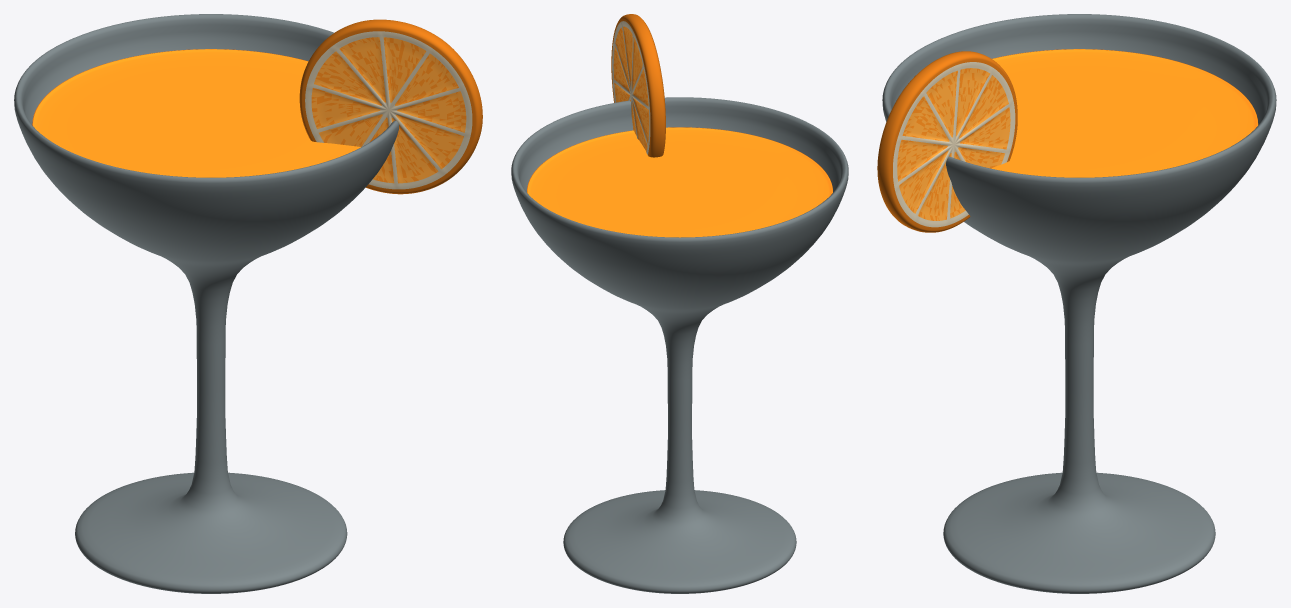
Rendered from cocktail-agrumes.glb.
3 renders of one model, left to right at view 1: azimuth 30°, elevation 25°; view 2: azimuth 150°, elevation 25°; view 3: azimuth 270°, elevation 25°, orthographic. The views are drawn at different scales.
Visible parts, largest first — view 1: verre, cocktail_agrumes, orange_pulpe, orange_albedo, orange_pulpe_vive, orange_zeste; view 2: verre, cocktail_agrumes, orange_zeste, orange_pulpe, orange_pulpe_vive, orange_albedo; view 3: verre, cocktail_agrumes, orange_pulpe, orange_zeste, orange_albedo, orange_pulpe_vive.
Part boxes in pixels (<box>): verre: <box>14,14,398,593</box>; cocktail_agrumes: <box>32,49,360,177</box>; orange_pulpe: <box>311,37,466,183</box>; orange_albedo: <box>305,31,472,189</box>; orange_pulpe_vive: <box>311,37,466,183</box>; orange_zeste: <box>299,19,482,194</box>; verre: <box>511,97,848,593</box>; cocktail_agrumes: <box>527,127,832,237</box>; orange_zeste: <box>611,14,665,157</box>; orange_pulpe: <box>613,26,649,151</box>; orange_pulpe_vive: <box>613,26,648,149</box>; orange_albedo: <box>612,21,650,154</box>; verre: <box>882,14,1276,593</box>; cocktail_agrumes: <box>991,49,1258,177</box>; orange_pulpe: <box>897,68,1010,220</box>; orange_zeste: <box>877,51,1017,232</box>; orange_albedo: <box>893,62,1015,227</box>; orange_pulpe_vive: <box>897,68,1010,220</box>.
Size of the model in its own units: 0.1114 by 0.1652 by 0.1114.
